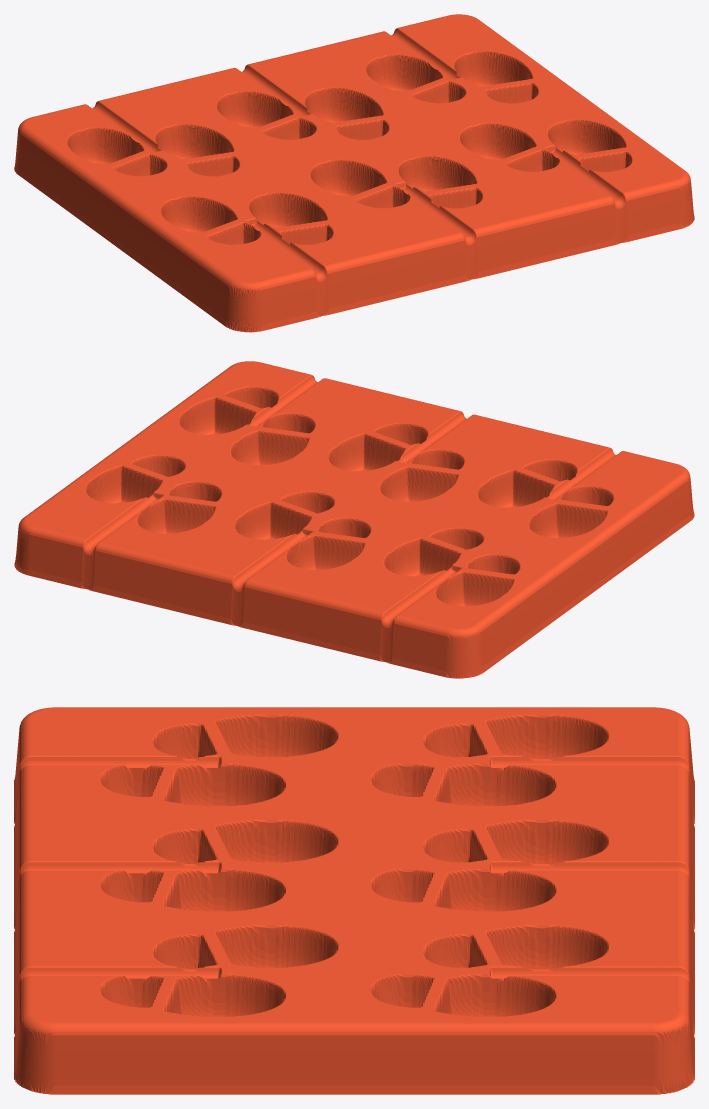
The model's file is mold.glb.
3 views of the same model, one above another, from view 1: azimuth 30°, elevation 25°; view 2: azimuth 150°, elevation 25°; view 3: azimuth 270°, elevation 25° (orthographic). The views are drawn at different scales.
Visible parts, largest first — view 1: geometry_0; view 2: geometry_0; view 3: geometry_0.
Boxes of the visible parts, left/top/right/bottom form: geometry_0: left=14, top=14, right=694, bottom=332; geometry_0: left=14, top=361, right=694, bottom=678; geometry_0: left=14, top=707, right=694, bottom=1094.
Bounding box in the file's own units: 0.1686 × 0.0155 × 0.1477.
